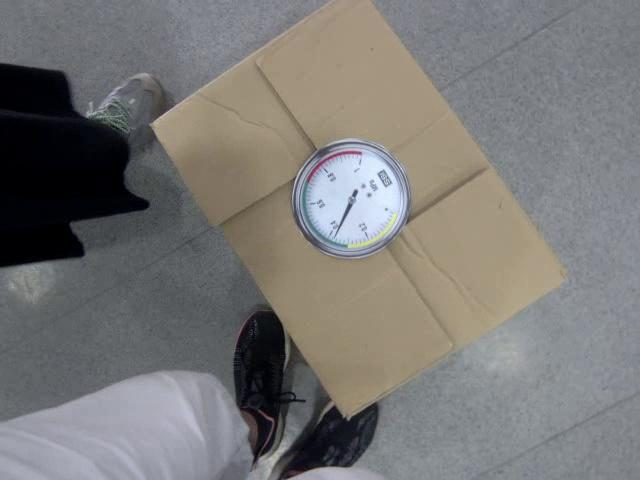Dashboard: (289, 138, 409, 260)
ssi: (377, 167, 393, 189)
